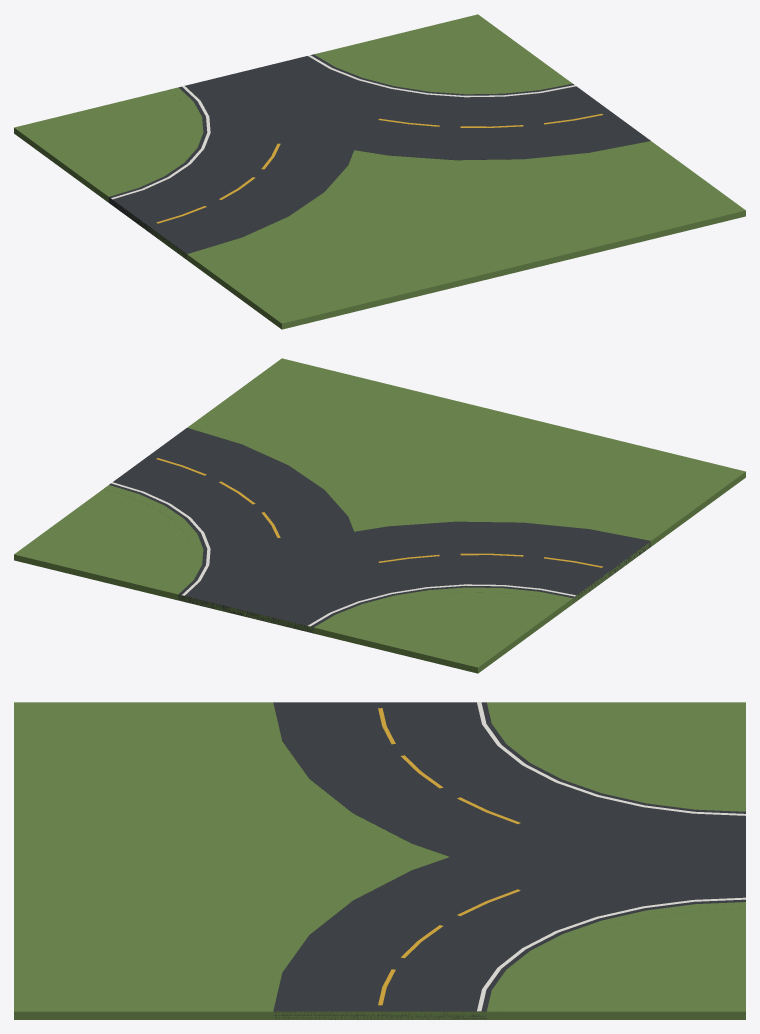
The model's file is Road_2Lane_NoSidewalk_Intersection_Y.glb.
3 views of the same model, one above another, from view 1: azimuth 30°, elevation 25°; view 2: azimuth 150°, elevation 25°; view 3: azimuth 270°, elevation 25° (orthographic). The views are drawn at different scales.
Visible parts, largest first — view 1: Road_2Lane_NoSidewalk_Intersection_Y_Grass-edge, Road_2Lane_NoSidewalk_Intersection_Y_Asphalt, Road_2Lane_NoSidewalk_Intersection_Y_PaintWhite, Road_2Lane_NoSidewalk_Intersection_Y_PaintYellow; view 2: Road_2Lane_NoSidewalk_Intersection_Y_Grass-edge, Road_2Lane_NoSidewalk_Intersection_Y_Asphalt, Road_2Lane_NoSidewalk_Intersection_Y_PaintWhite, Road_2Lane_NoSidewalk_Intersection_Y_PaintYellow; view 3: Road_2Lane_NoSidewalk_Intersection_Y_Grass-edge, Road_2Lane_NoSidewalk_Intersection_Y_Asphalt, Road_2Lane_NoSidewalk_Intersection_Y_PaintWhite, Road_2Lane_NoSidewalk_Intersection_Y_PaintYellow.
Boxes of the visible parts, x1,y1,x2,y2 form: Road_2Lane_NoSidewalk_Intersection_Y_Grass-edge: [14, 14, 745, 329]; Road_2Lane_NoSidewalk_Intersection_Y_Asphalt: [109, 54, 650, 259]; Road_2Lane_NoSidewalk_Intersection_Y_PaintWhite: [111, 55, 575, 199]; Road_2Lane_NoSidewalk_Intersection_Y_PaintYellow: [156, 113, 602, 223]; Road_2Lane_NoSidewalk_Intersection_Y_Grass-edge: [14, 358, 745, 673]; Road_2Lane_NoSidewalk_Intersection_Y_Asphalt: [109, 428, 650, 633]; Road_2Lane_NoSidewalk_Intersection_Y_PaintWhite: [111, 482, 575, 626]; Road_2Lane_NoSidewalk_Intersection_Y_PaintYellow: [156, 458, 602, 567]; Road_2Lane_NoSidewalk_Intersection_Y_Grass-edge: [14, 702, 745, 1019]; Road_2Lane_NoSidewalk_Intersection_Y_Asphalt: [273, 702, 745, 1019]; Road_2Lane_NoSidewalk_Intersection_Y_PaintWhite: [477, 702, 745, 1011]; Road_2Lane_NoSidewalk_Intersection_Y_PaintYellow: [378, 708, 520, 1005].
Bounding box in the file's own units: 24 × 0.305 × 24.
